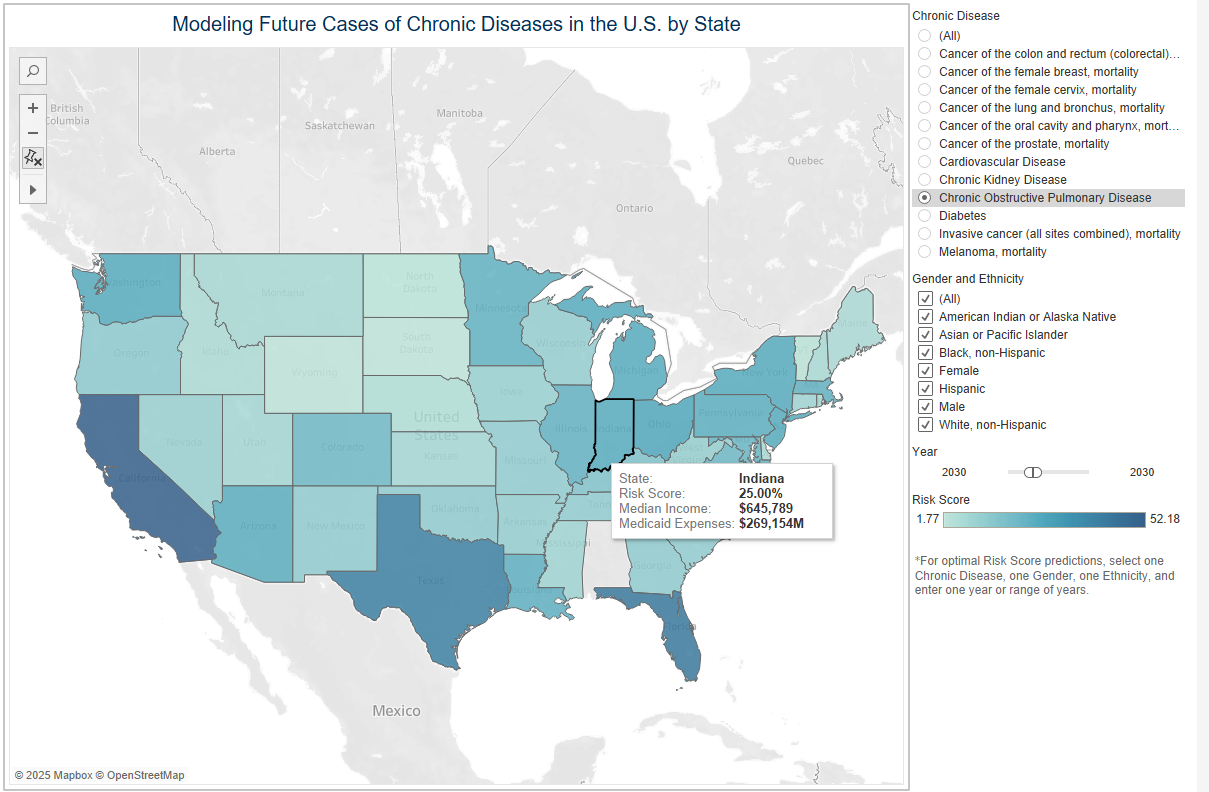

Layout of this report page (visuals, bound fields, positions):
{"tool":"tableau","page":{"name":"Dashboard 1","canvas":[1200,800],"ordinal":0},"visuals":[{"type":"worksheet","title":"Sheet 1","mark":"Automatic","box":[8,8,903,784]},{"type":"filter","title":"Sheet 1","param":"[federated.1taytuz0qvla2z16t3s9n1ls4cn4].[none:Topic:nk]","box":[911,8,281,263]},{"type":"filter","title":"Sheet 1","param":"[federated.1taytuz0qvla2z16t3s9n1ls4cn4].[none:Stratification1:nk]","box":[911,271,281,173]},{"type":"filter","title":"Sheet 1","param":"[federated.1taytuz0qvla2z16t3s9n1ls4cn4].[none:Year:qk]","box":[911,444,281,48]},{"type":"legend","title":"Sheet 1","param":"[federated.1taytuz0qvla2z16t3s9n1ls4cn4].[sum:Calculation_83105545056436224:qk]","box":[911,492,281,59]},{"type":"text","box":[911,551,281,53]}]}

Visuals, with their boxes in screenshot pixels (x1, y1, x2, y2), scaled from the page's 1200x800 canvas onto the 1209x792 screenshot:
"Sheet 1" worksheet: Rect(8, 8, 918, 784)
"Sheet 1" filter: Rect(918, 8, 1201, 268)
"Sheet 1" filter: Rect(918, 268, 1201, 440)
"Sheet 1" filter: Rect(918, 440, 1201, 487)
"Sheet 1" legend: Rect(918, 487, 1201, 545)
text: Rect(918, 545, 1201, 598)
